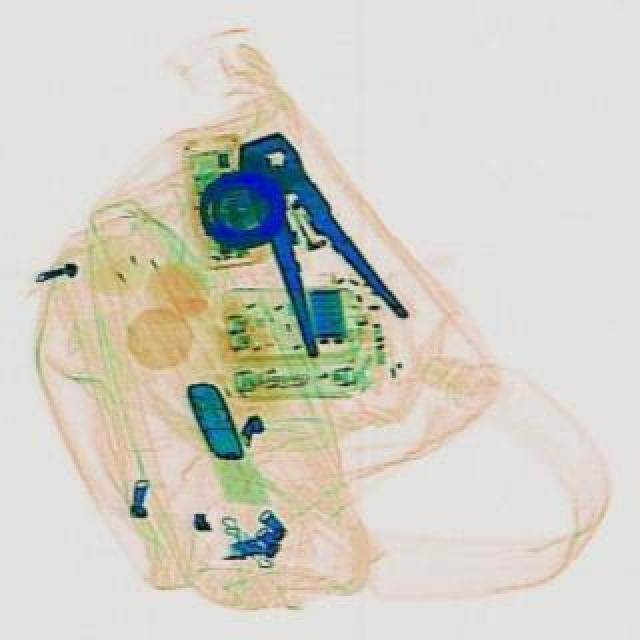wrench: (214, 114, 416, 360)
